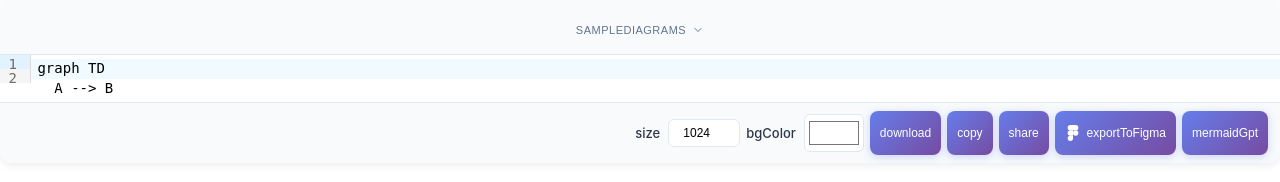
Test: Editor › closes AI Help menu after selecting an option
The width and height of the screenshot is (1280, 182).
Click the button "mermaidGpt". click: click(1225, 133)
box: [1182,111,1268,155]
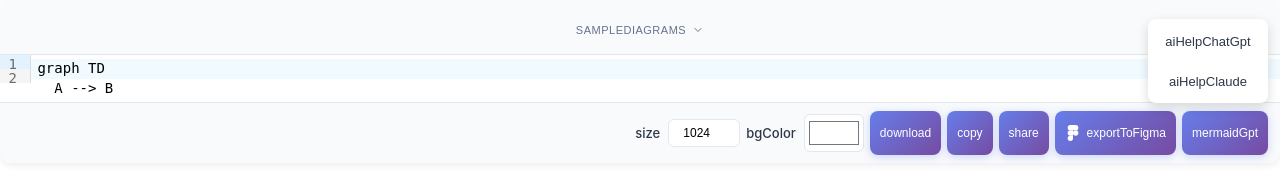
Expected: the button "aiHelpChatGpt" is shown
Click the button "aiHelpChatGpt". click: click(1208, 41)
box: [1152,23,1264,59]
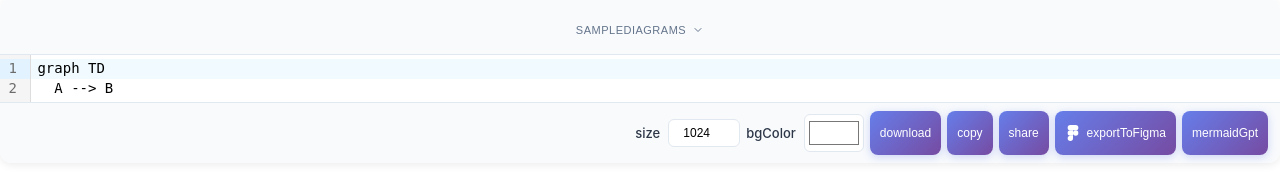
Expected: the button "aiHelpChatGpt" is gone
